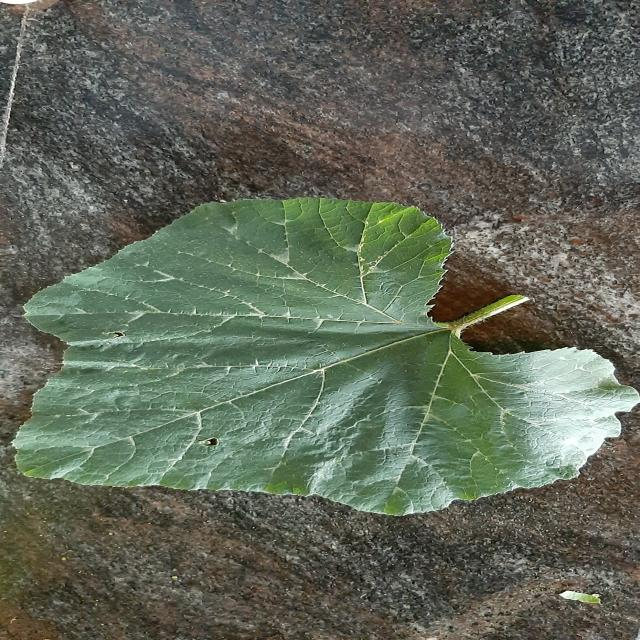pumpkin: (14, 198, 637, 515)
